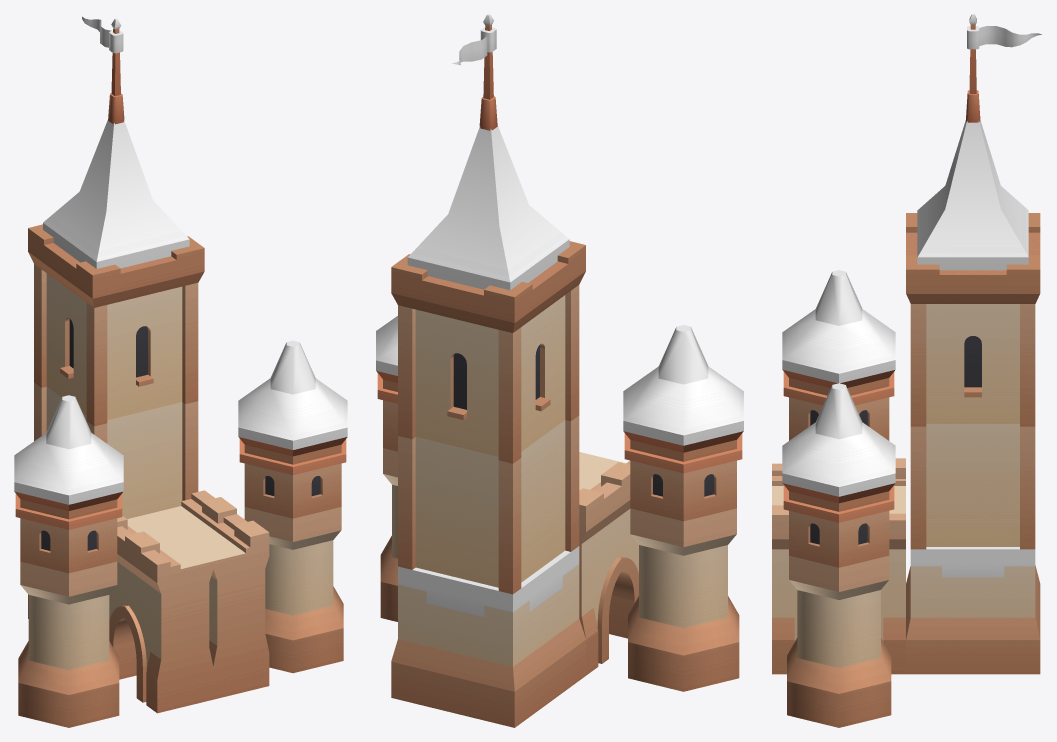
Rendered from castle_medium.glb.
The picture shows the model from 3 angles, left to right: view 1: azimuth 30°, elevation 25°; view 2: azimuth 150°, elevation 25°; view 3: azimuth 270°, elevation 25°; orthographic projection. The views are drawn at different scales.
Parts seen in each view (by area): view 1: wall-doorway (×2), tower-hexagon-base (×2), tower-square-mid-windows, tower-hexagon-roof (×2), tower-square-top-roof-high, tower-hexagon-mid (×2), tower-square-mid, flag-pennant; view 2: tower-square-base-color, tower-square-mid, tower-square-mid-windows, tower-square-top-roof-high, tower-hexagon-base (×2), tower-hexagon-roof (×2), wall-doorway, tower-hexagon-mid (×2), flag-pennant; view 3: tower-hexagon-roof (×2), tower-square-base-color, tower-square-top-roof-high, tower-square-mid, tower-hexagon-base, tower-square-mid-windows, tower-hexagon-mid (×2), wall-doorway (×2), flag-pennant.
Part boxes in pixels (<box>): wall-doorway (×2): <box>109,490,269,713</box>; tower-hexagon-base (×2): <box>18,507,343,727</box>; tower-square-mid-windows: <box>34,264,198,426</box>; tower-hexagon-roof (×2): <box>14,340,347,519</box>; tower-square-top-roof-high: <box>28,120,204,307</box>; tower-hexagon-mid (×2): <box>15,439,346,573</box>; tower-square-mid: <box>34,382,198,518</box>; flag-pennant: <box>82,16,124,124</box>; tower-square-base-color: <box>391,546,585,727</box>; tower-square-mid: <box>398,415,579,594</box>; tower-square-mid-windows: <box>398,285,579,463</box>; tower-square-top-roof-high: <box>391,125,585,332</box>; tower-hexagon-base (×2): <box>380,448,739,691</box>; tower-hexagon-roof (×2): <box>376,316,743,461</box>; wall-doorway: <box>579,456,638,675</box>; tower-hexagon-mid (×2): <box>377,373,742,521</box>; flag-pennant: <box>452,14,497,130</box>; tower-hexagon-roof (×2): <box>782,270,895,511</box>; tower-square-base-color: <box>906,547,1040,674</box>; tower-square-top-roof-high: <box>906,120,1040,303</box>; tower-square-mid: <box>910,424,1035,549</box>; tower-hexagon-base: <box>787,555,891,727</box>; tower-square-mid-windows: <box>910,304,1035,426</box>; tower-hexagon-mid (×2): <box>783,372,894,567</box>; wall-doorway (×2): <box>772,458,905,674</box>; flag-pennant: <box>966,14,1041,122</box>.
Size of the model in its own units: 2.98 by 5.2 by 2.02.
5 materials, 5 textured.
